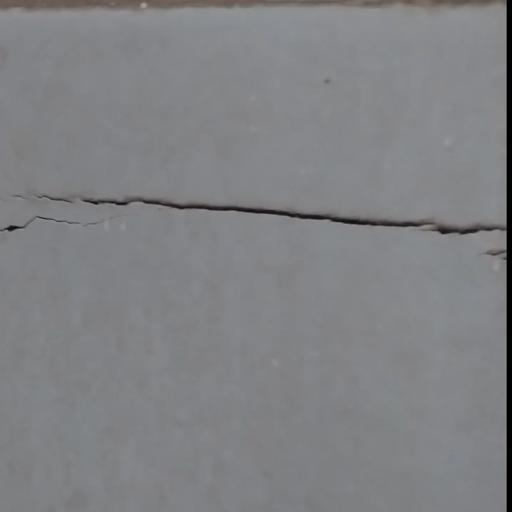major_crack: (0, 172, 502, 274)
